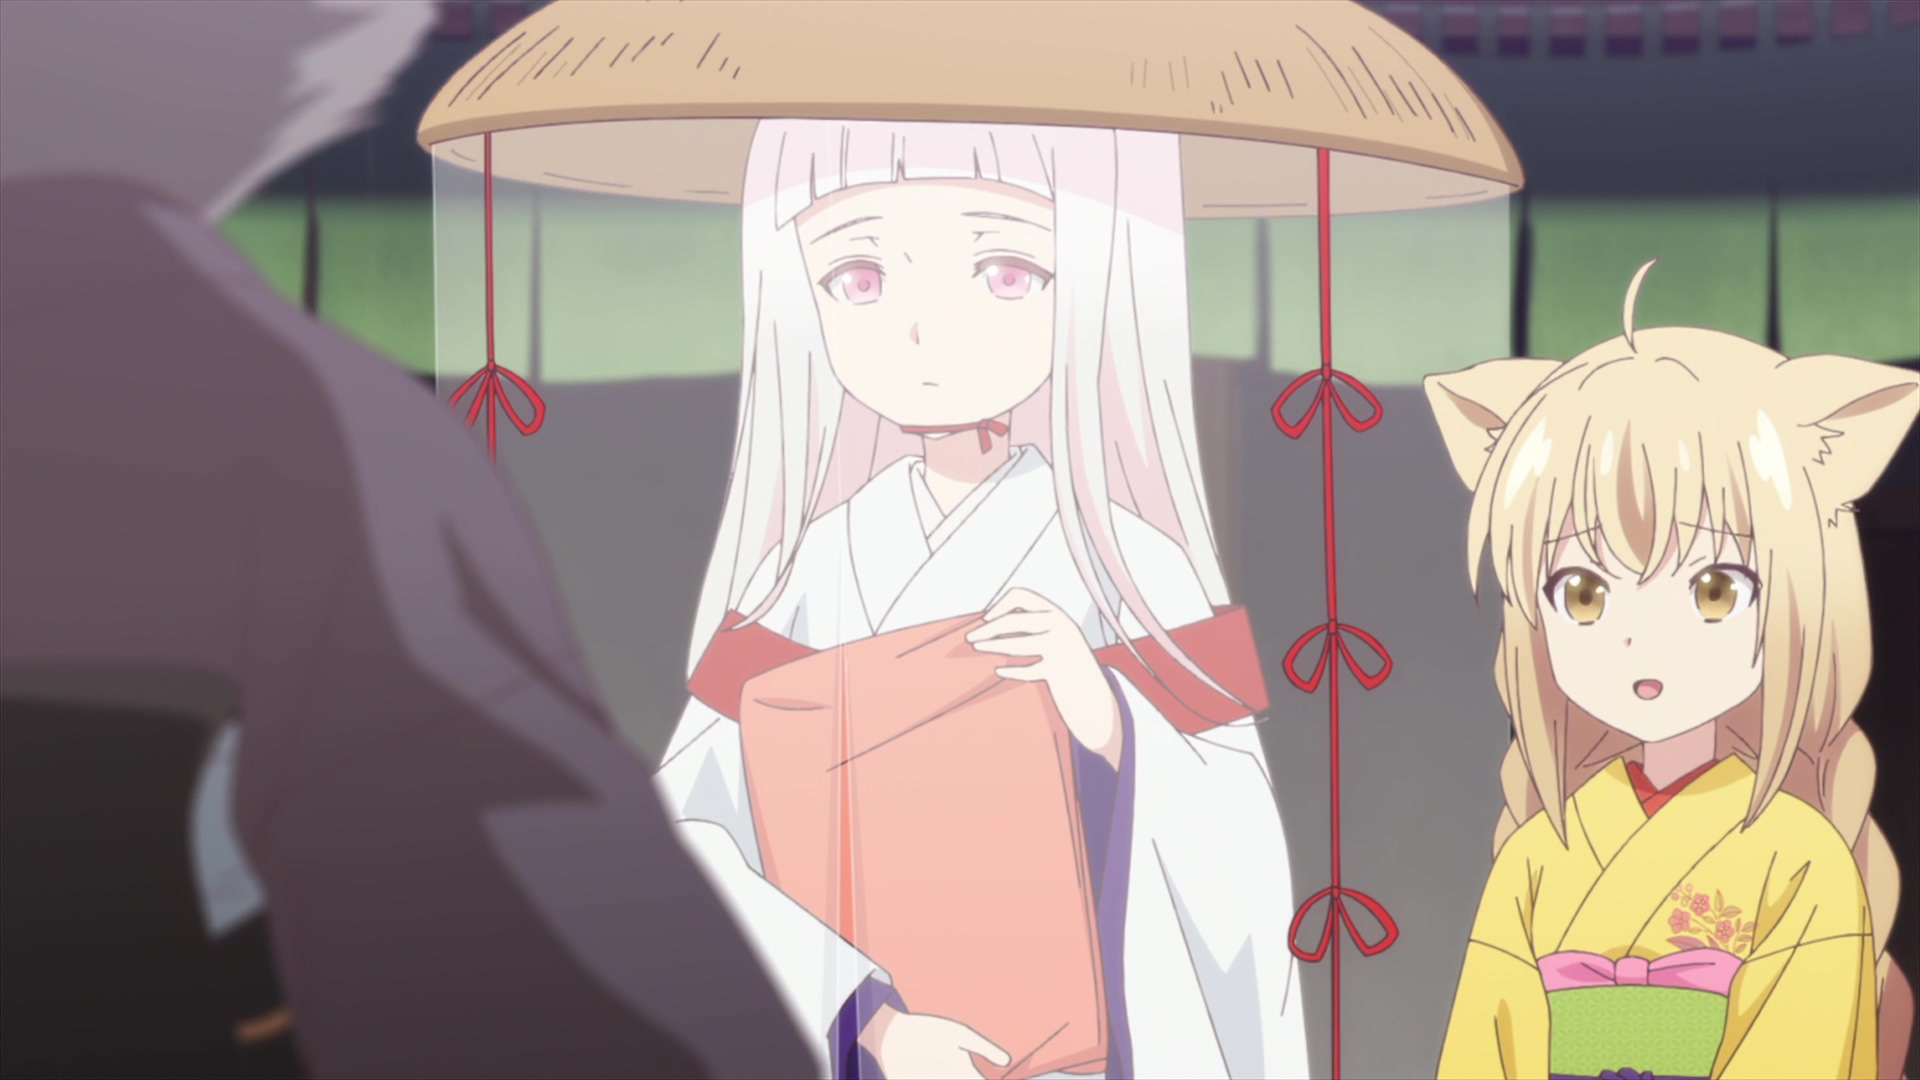其他: (417, 1, 1522, 1080), (1, 1, 823, 1080)
柚: (1422, 257, 1920, 1080)
